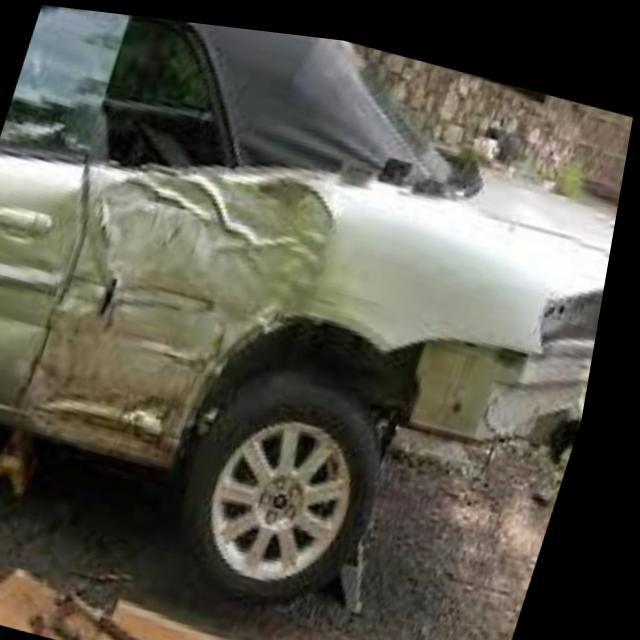dent: (26, 163, 320, 461)
no part: (329, 260, 613, 448)
